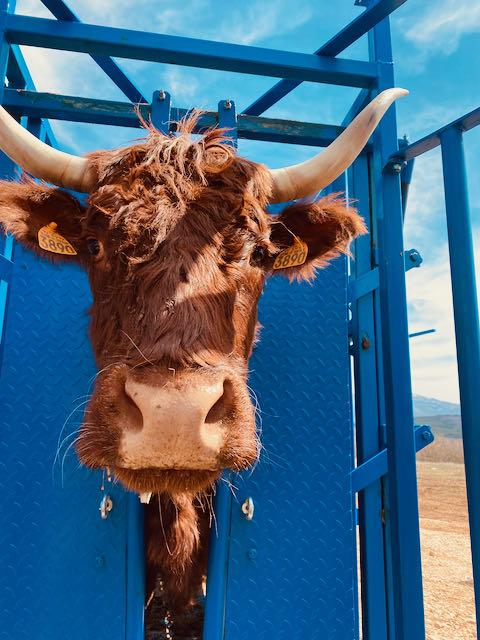muzzles: (72, 357, 261, 491)
